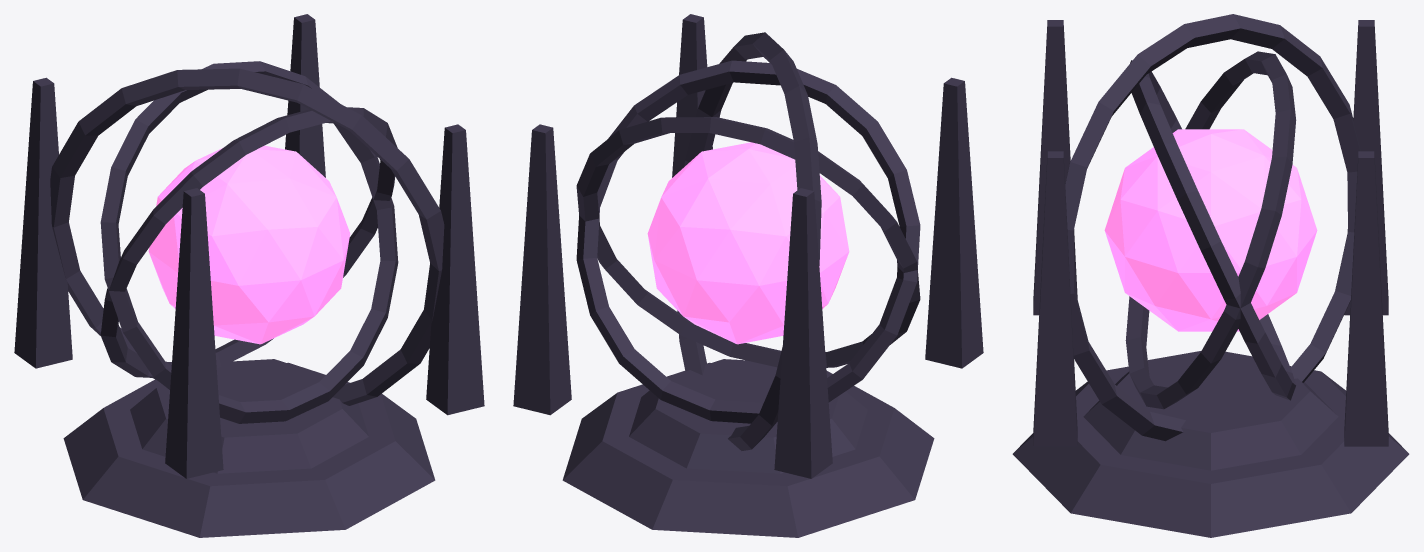
Rendered from relic_origin_core.glb.
The picture shows the model from 3 angles, left to right: view 1: azimuth 30°, elevation 25°; view 2: azimuth 150°, elevation 25°; view 3: azimuth 270°, elevation 25°; orthographic projection. The views are drawn at different scales.
Parts seen in each view (by area): view 1: RelicOriginCore; view 2: RelicOriginCore; view 3: RelicOriginCore.
Part boxes in pixels (x1,y1,x2,y2): RelicOriginCore: (14,14,484,537); RelicOriginCore: (513,14,983,537); RelicOriginCore: (1012,14,1409,537).
Size of the model in its own units: 2.8 by 3.26 by 2.8.
